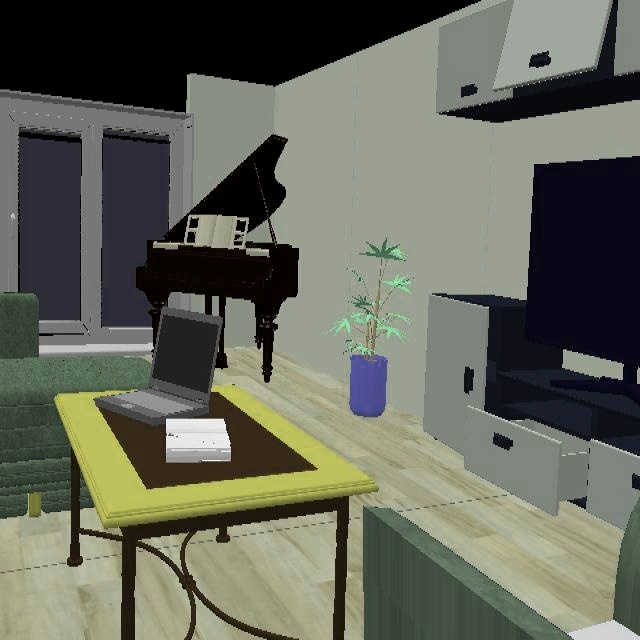book: (166, 419, 231, 464)
cabinet: (425, 293, 640, 521), (437, 0, 640, 123)
laptop: (116, 309, 224, 423)
monitor: (525, 156, 640, 397)
sofa: (362, 497, 640, 640), (0, 291, 151, 520)
table: (55, 385, 381, 640)
